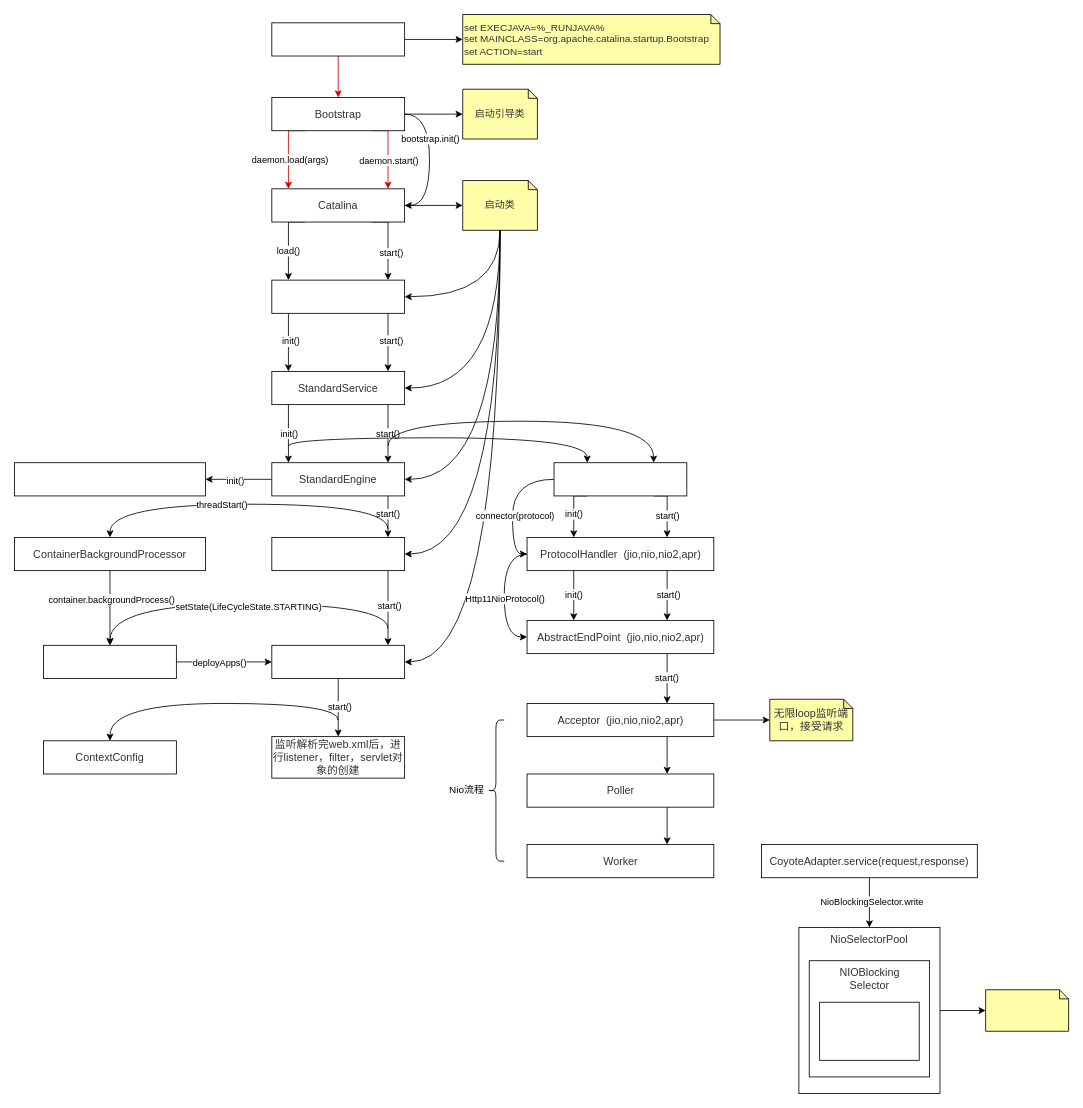
Some shapes in this 1083 by 1108 pixel diagram are drawn without their labels. The shapes that lost their labels are listed below. From the top down, each one's centre as x and y in pixels, then its label:
point 338,39: catalina.sh
point 338,296: StandardServer
point 109,479: startStopExecutor (host,context,wrapper的启动线程池)
point 620,479: Connector
point 338,554: StandardHost
point 109,661: HostConfig
point 338,661: StandardContext
point 869,1030: BlockPoller
point 1027,1010: 回写响应数据
